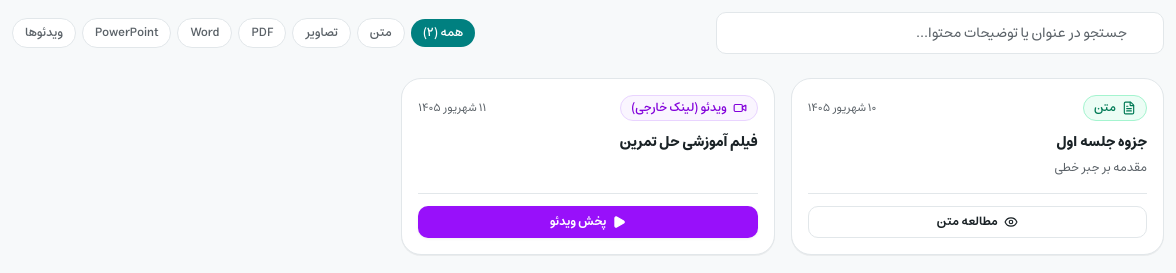
Test: Classroom Educational Content — Frontend Flow Tests › Student: StudentClassroomContents › renders published content items and filters by search
Expected: the heading "جزوه جلسه اول" is shown, [1056,130,1147,154]
Expected: the heading "فیلم آموزشی حل تمرین" is shown, [620,130,758,154]
Type "فیلم" into the field with placeholder "جستجو در عنوان یا توضیحات محتوا...".
click(940, 33); type("فیلم")  # box [716,12,1164,54]
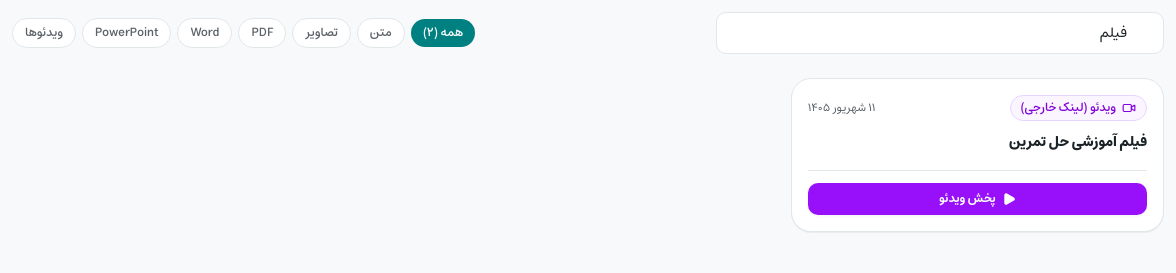
Expected: the heading "فیلم آموزشی حل تمرین" is shown, [1009,130,1147,154]
Now the heading "جزوه جلسه اول" is gone
